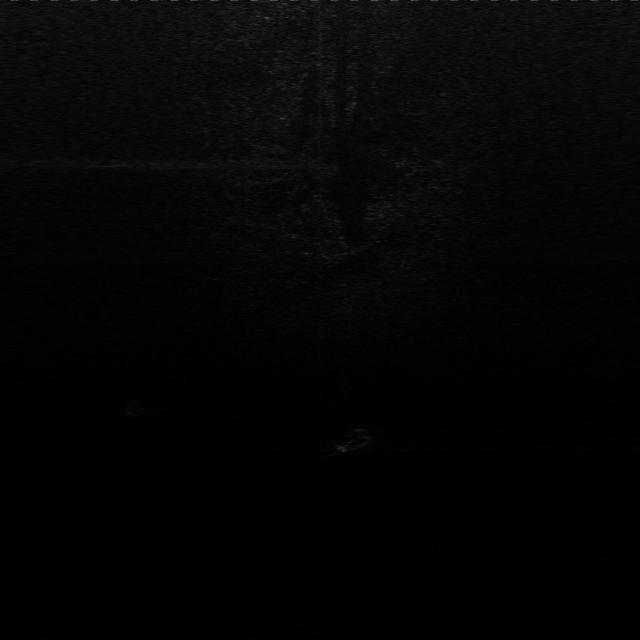tyre: (330, 426, 376, 454)
